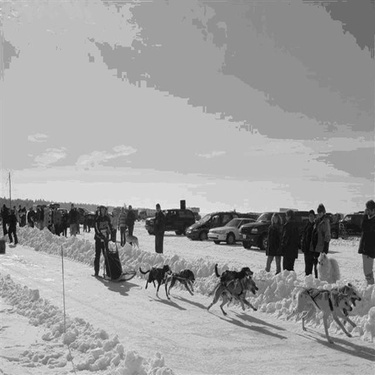car: (236, 208, 318, 254), (184, 208, 243, 242), (142, 205, 199, 238), (326, 208, 370, 242), (205, 217, 254, 244)
dog: (282, 285, 357, 353), (305, 277, 366, 328), (201, 271, 260, 317), (138, 260, 172, 292), (168, 265, 199, 298), (212, 262, 254, 285), (120, 227, 141, 248)
